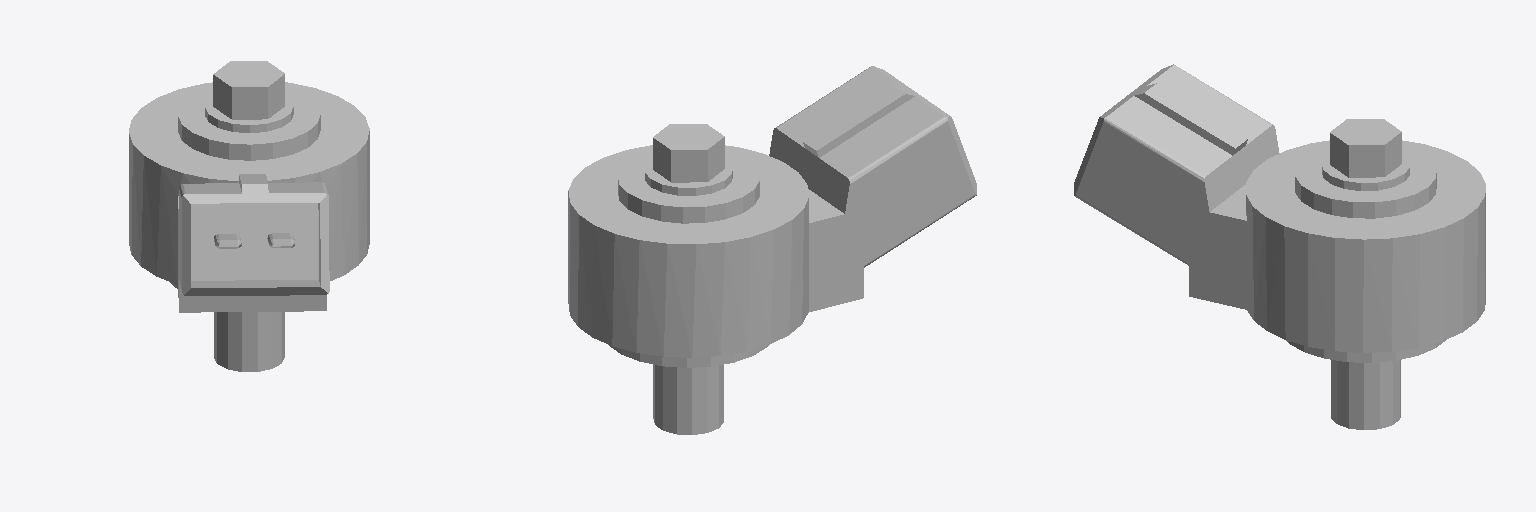
File: Датчик детонации.obj
The picture shows the model from 3 angles: view 1: azimuth 30°, elevation 25°; view 2: azimuth 150°, elevation 25°; view 3: azimuth 270°, elevation 25°; orthographic projection.
Visible parts, largest first — view 1: Датчик_детонации; view 2: Датчик_детонации; view 3: Датчик_детонации.
Boxes of the visible parts, x1,y1,x2,y2 form: Датчик_детонации: [129, 61, 369, 371]; Датчик_детонации: [568, 66, 976, 434]; Датчик_детонации: [1074, 64, 1485, 429].
Bounding box in the file's own units: 36.37 × 35 × 46.16.